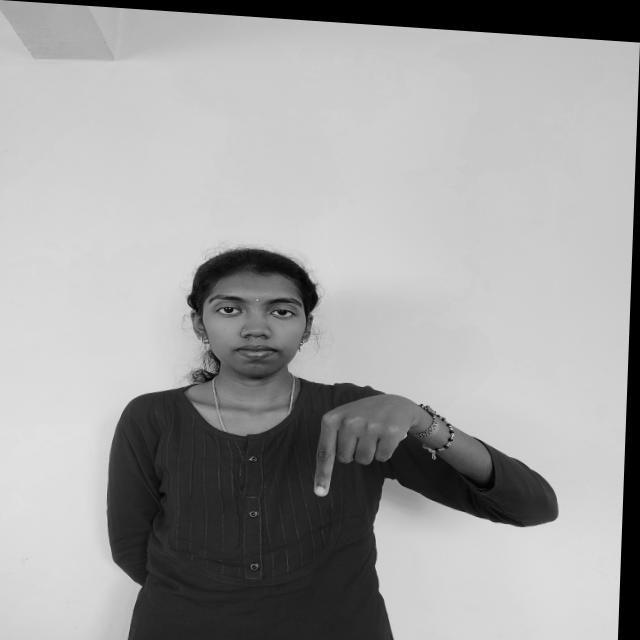Now: (313, 371, 436, 513)
